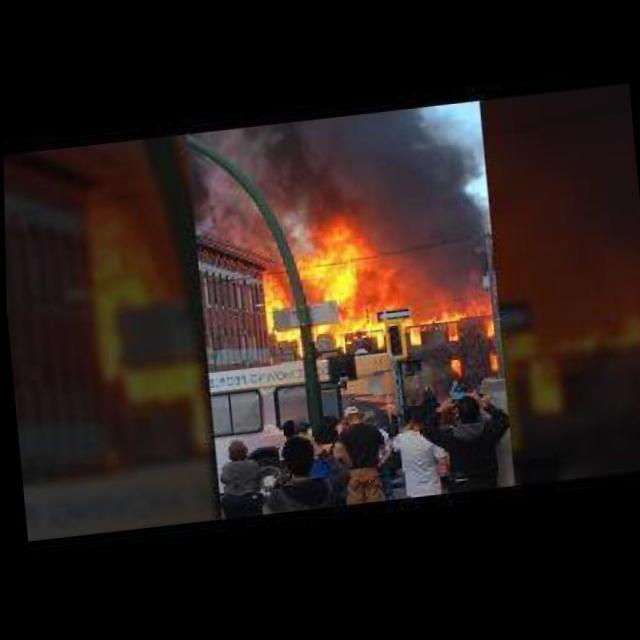Fire: (254, 240, 489, 364), (374, 101, 496, 307), (222, 112, 384, 245), (481, 349, 499, 377), (443, 358, 462, 381)
